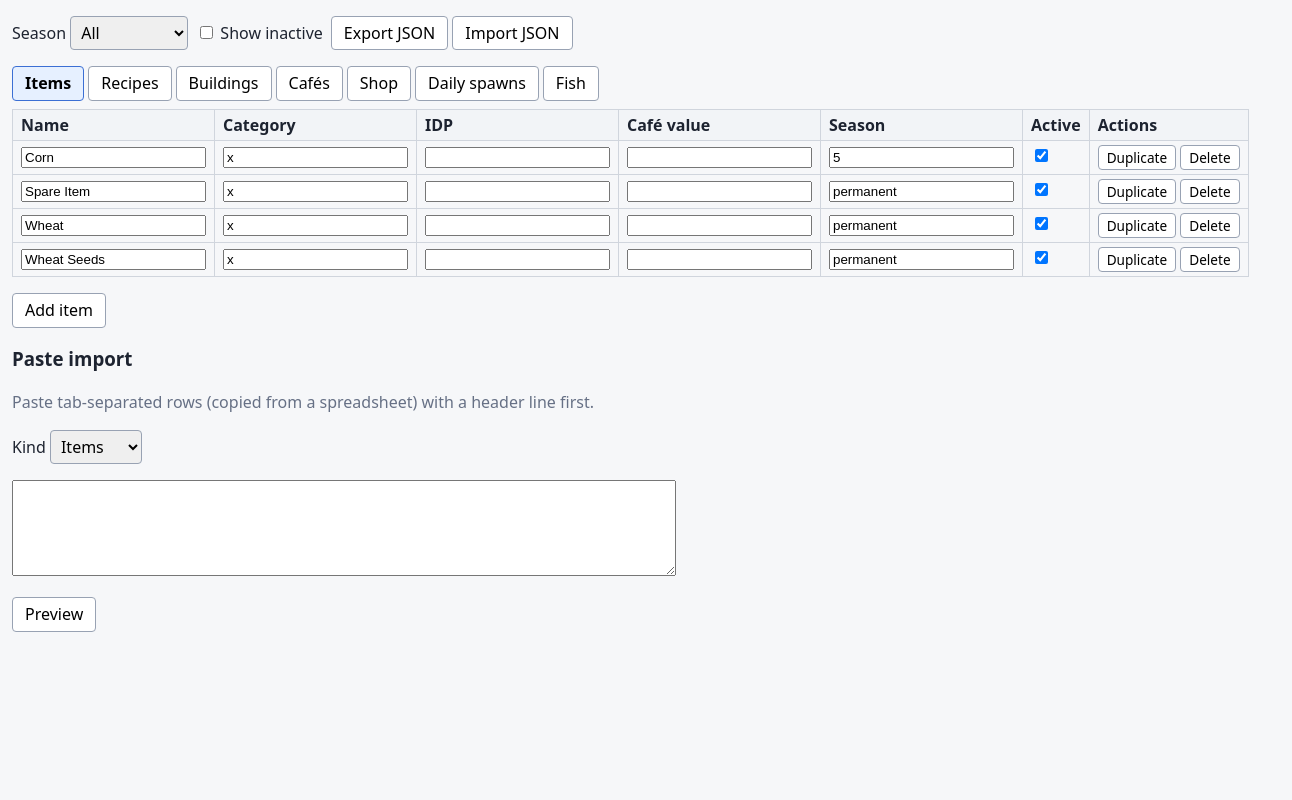
Test case: DataTab › blocks deleting a referenced item and shows what uses it; unreferenced deletes
Click the button with aria-label "Delete Wheat Seeds": (1210,260) [1180,247,1240,272]
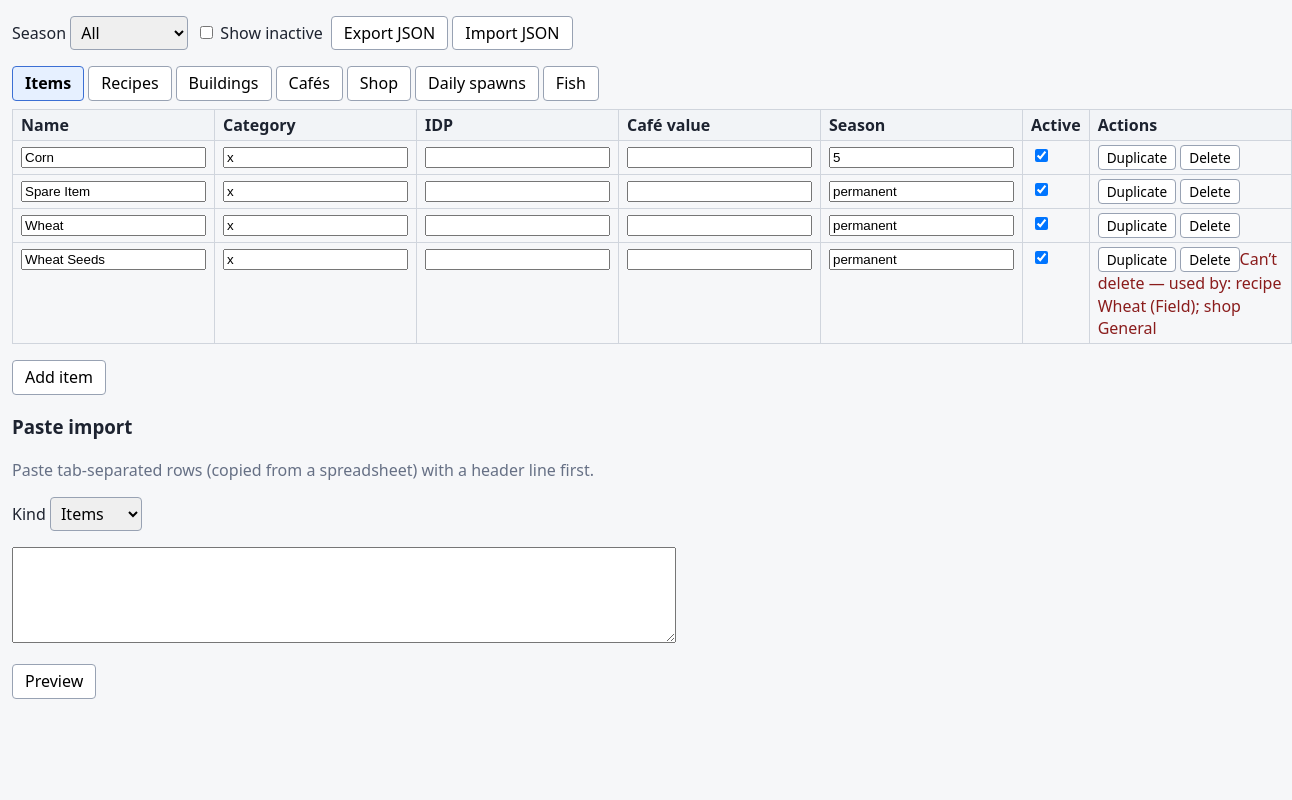
Expected: the row with test id "row-seeds" is shown, [12,243,1291,344]
Expected: the message shows "used by", [1098,248,1282,339]
Expected: the message shows "recipe Wheat", [1098,248,1282,339]
Click the button with aria-label "Delete Spare Item": (1210,192) [1180,179,1240,204]
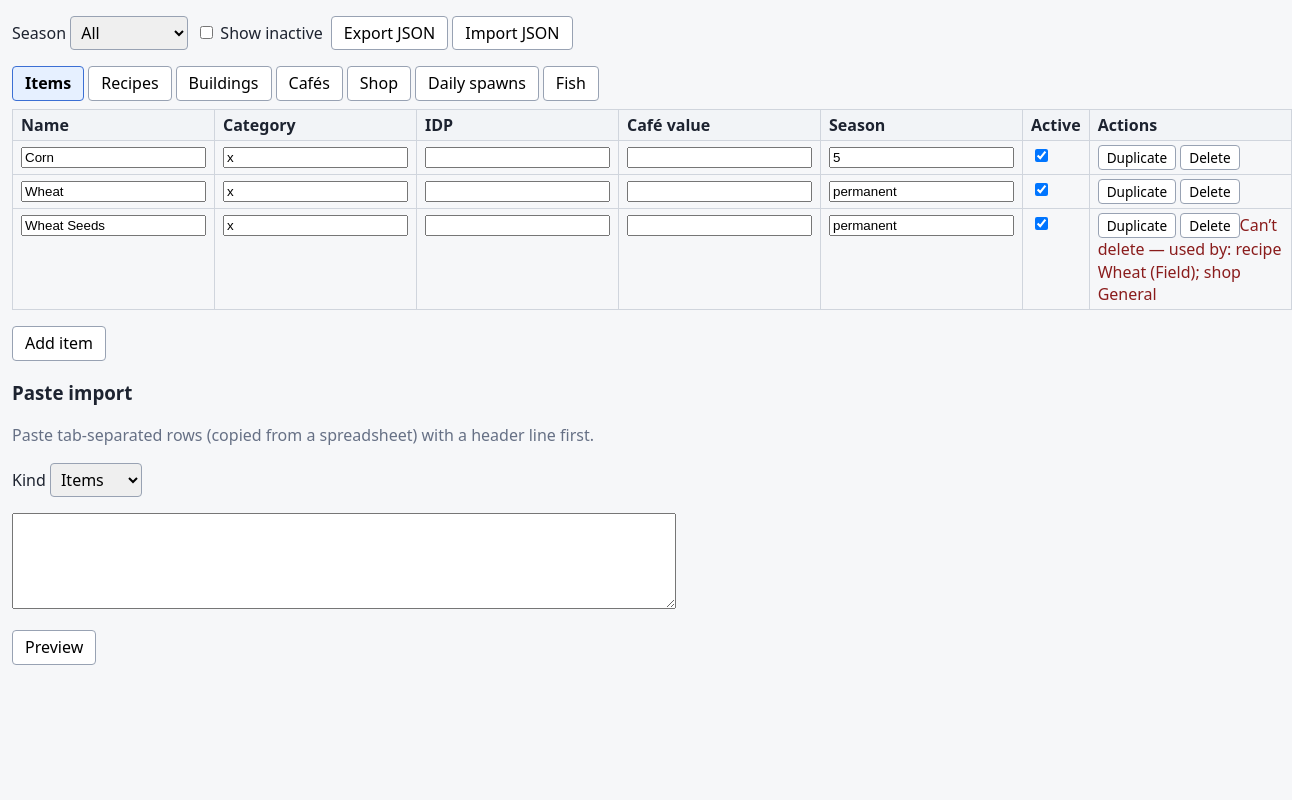
Expected: the row with test id "row-spare" is gone
